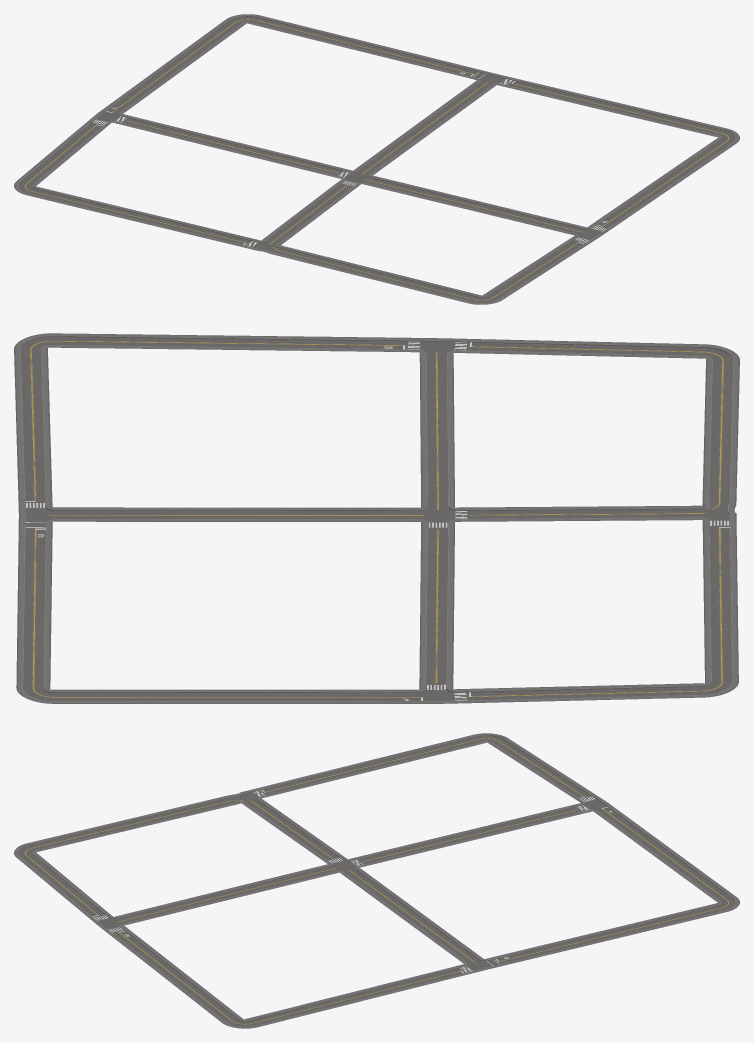
The model's file is helainterskitutancrossing_0.fbx.
3 views of the same model, one above another, from view 1: azimuth 30°, elevation 25°; view 2: azimuth 150°, elevation 25°; view 3: azimuth 270°, elevation 25° (orthographic). The views are drawn at different scales.
Parts seen in each view (by area): view 1: CityEngineMaterial_1_m_7, CityEngineMaterial_1_m_3, CityEngineMaterial_1_m_6, CityEngineMaterial_1_m_4, CityEngineMaterial_1_m_13, CityEngineMaterial_1_m_16, CityEngineMaterial_1_m_2, CityEngineMaterial_1_m_12, CityEngineMaterial_1_m_11, CityEngineMaterial_1_m_14, CityEngineMaterial_1_m_17, CityEngineMaterial_1_m_9 (+16 smaller); view 2: CityEngineMaterial_1_m_7, CityEngineMaterial_1_m_6, CityEngineMaterial_1_m_4, CityEngineMaterial_1_m_3, CityEngineMaterial_1_m_13, CityEngineMaterial_1_m_16, CityEngineMaterial_1_m_12, CityEngineMaterial_1_m_2, CityEngineMaterial_1_m_11, CityEngineMaterial_1_m_14, CityEngineMaterial_1_m_17, CityEngineMaterial_1_m_9 (+25 smaller); view 3: CityEngineMaterial_1_m_7, CityEngineMaterial_1_m_3, CityEngineMaterial_1_m_6, CityEngineMaterial_1_m_4, CityEngineMaterial_1_m_13, CityEngineMaterial_1_m_16, CityEngineMaterial_1_m_2, CityEngineMaterial_1_m_12, CityEngineMaterial_1_m_11, CityEngineMaterial_1_m_14, CityEngineMaterial_1_m_9, CityEngineMaterial_1_m_17 (+16 smaller).
Part boxes in pixels (x1,y1,x2,y2): CityEngineMaterial_1_m_7: [362, 177, 586, 234]; CityEngineMaterial_1_m_3: [356, 80, 493, 175]; CityEngineMaterial_1_m_6: [124, 118, 341, 175]; CityEngineMaterial_1_m_4: [252, 17, 476, 73]; CityEngineMaterial_1_m_13: [29, 189, 248, 242]; CityEngineMaterial_1_m_16: [274, 248, 477, 301]; CityEngineMaterial_1_m_2: [113, 20, 240, 113]; CityEngineMaterial_1_m_12: [603, 140, 731, 227]; CityEngineMaterial_1_m_11: [575, 97, 724, 135]; CityEngineMaterial_1_m_14: [264, 184, 351, 245]; CityEngineMaterial_1_m_17: [487, 241, 577, 299]; CityEngineMaterial_1_m_9: [21, 124, 95, 184]; CityEngineMaterial_1_m_7: [426, 351, 448, 509]; CityEngineMaterial_1_m_6: [426, 529, 448, 683]; CityEngineMaterial_1_m_4: [23, 529, 45, 688]; CityEngineMaterial_1_m_3: [49, 511, 424, 519]; CityEngineMaterial_1_m_13: [709, 527, 731, 682]; CityEngineMaterial_1_m_16: [709, 360, 733, 504]; CityEngineMaterial_1_m_12: [51, 337, 403, 348]; CityEngineMaterial_1_m_2: [53, 693, 421, 700]; CityEngineMaterial_1_m_11: [20, 349, 44, 453]; CityEngineMaterial_1_m_14: [470, 509, 707, 518]; CityEngineMaterial_1_m_17: [471, 343, 704, 355]; CityEngineMaterial_1_m_9: [471, 686, 703, 700]; CityEngineMaterial_1_m_7: [114, 865, 338, 924]; CityEngineMaterial_1_m_3: [342, 868, 481, 964]; CityEngineMaterial_1_m_6: [359, 807, 580, 863]; CityEngineMaterial_1_m_4: [500, 905, 724, 963]; CityEngineMaterial_1_m_13: [266, 737, 482, 794]; CityEngineMaterial_1_m_16: [29, 797, 236, 850]; CityEngineMaterial_1_m_2: [597, 809, 732, 901]; CityEngineMaterial_1_m_12: [114, 932, 238, 1022]; CityEngineMaterial_1_m_11: [248, 985, 397, 1025]; CityEngineMaterial_1_m_14: [245, 799, 337, 859]; CityEngineMaterial_1_m_9: [493, 739, 589, 796]; CityEngineMaterial_1_m_17: [21, 854, 103, 914].
Size of the model in its own units: 304 by 0.2 by 315.
